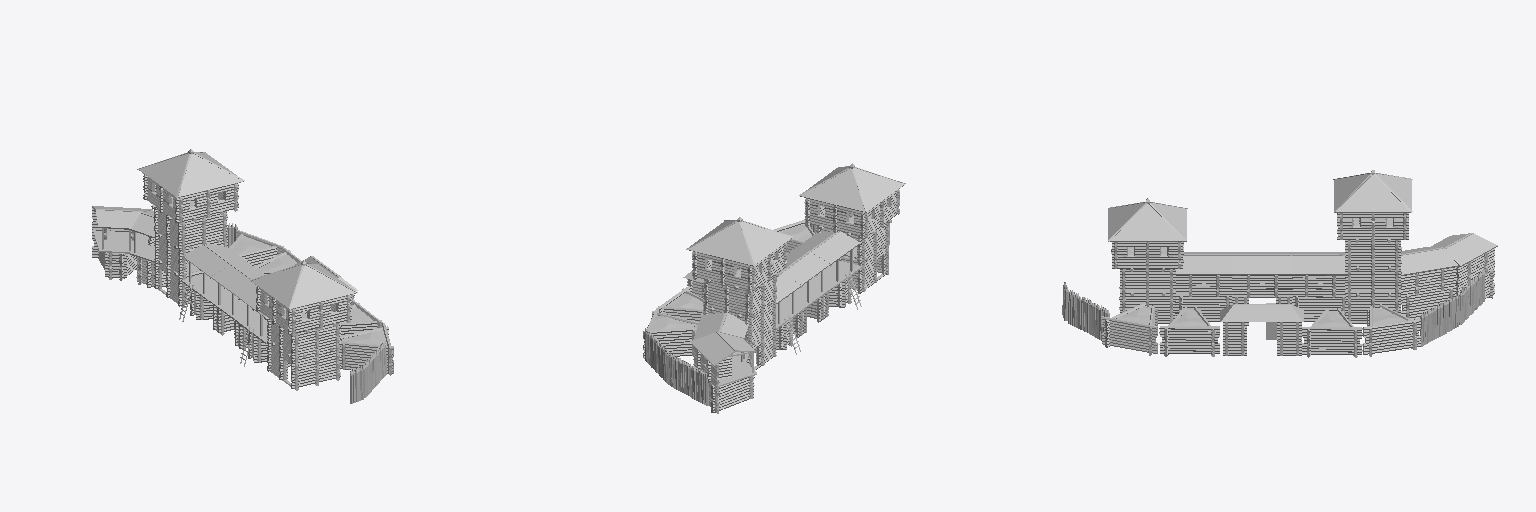
File: castle.obj
The picture shows the model from 3 angles: view 1: azimuth 30°, elevation 25°; view 2: azimuth 150°, elevation 25°; view 3: azimuth 270°, elevation 25°; orthographic projection.
Parts seen in each view (by area): view 1: Frontier_fortifications_model_tower_0; view 2: Frontier_fortifications_model_tower_0; view 3: Frontier_fortifications_model_tower_0.
Boxes of the visible parts, <box> form: Frontier_fortifications_model_tower_0: <box>92,149,393,403</box>; Frontier_fortifications_model_tower_0: <box>643,163,905,413</box>; Frontier_fortifications_model_tower_0: <box>1062,170,1497,357</box>.
Size of the model in its own units: 12.32 by 12.56 by 31.8.